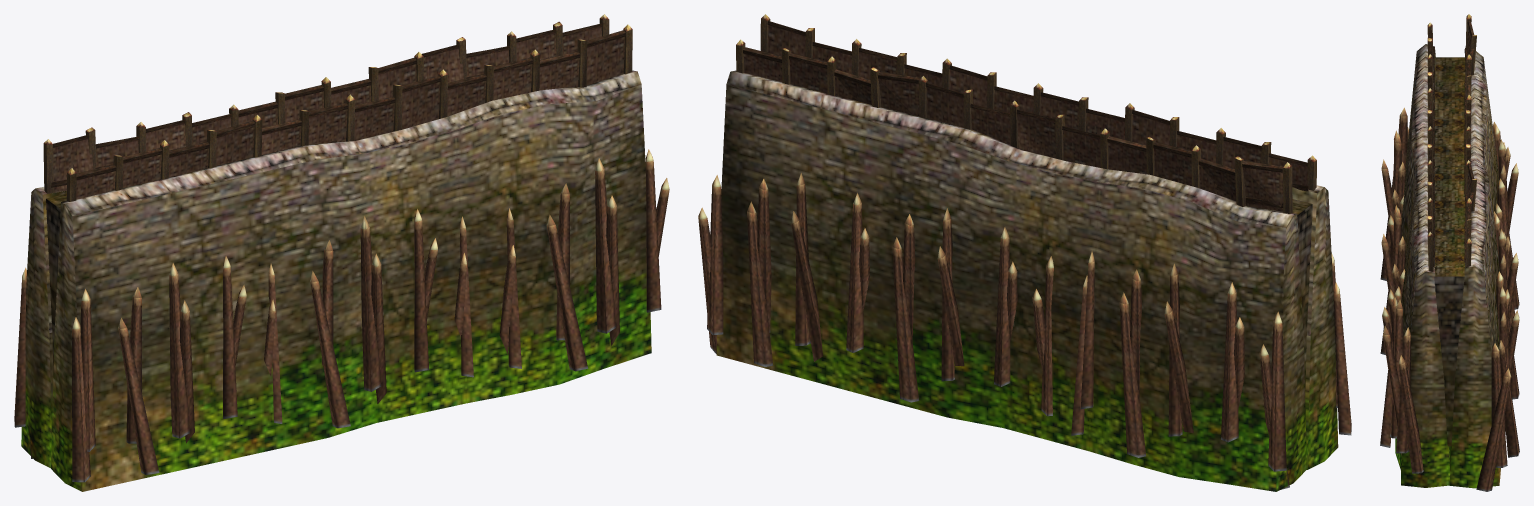
File: s_britons_wall_long.glb
The picture shows the model from 3 angles, left to right: view 1: azimuth 30°, elevation 25°; view 2: azimuth 150°, elevation 25°; view 3: azimuth 270°, elevation 25°; orthographic projection. The views are drawn at different scales.
Visible parts, largest first — view 1: s_britons_wall_long_part0; view 2: s_britons_wall_long_part0; view 3: s_britons_wall_long_part0.
Boxes of the visible parts, x1,y1,x2,y2 form: s_britons_wall_long_part0: (14, 14, 669, 491); s_britons_wall_long_part0: (698, 14, 1351, 491); s_britons_wall_long_part0: (1380, 14, 1519, 491).
Size of the model in its own units: 9.39 by 4.87 by 2.39.
1 material, 1 textured.
